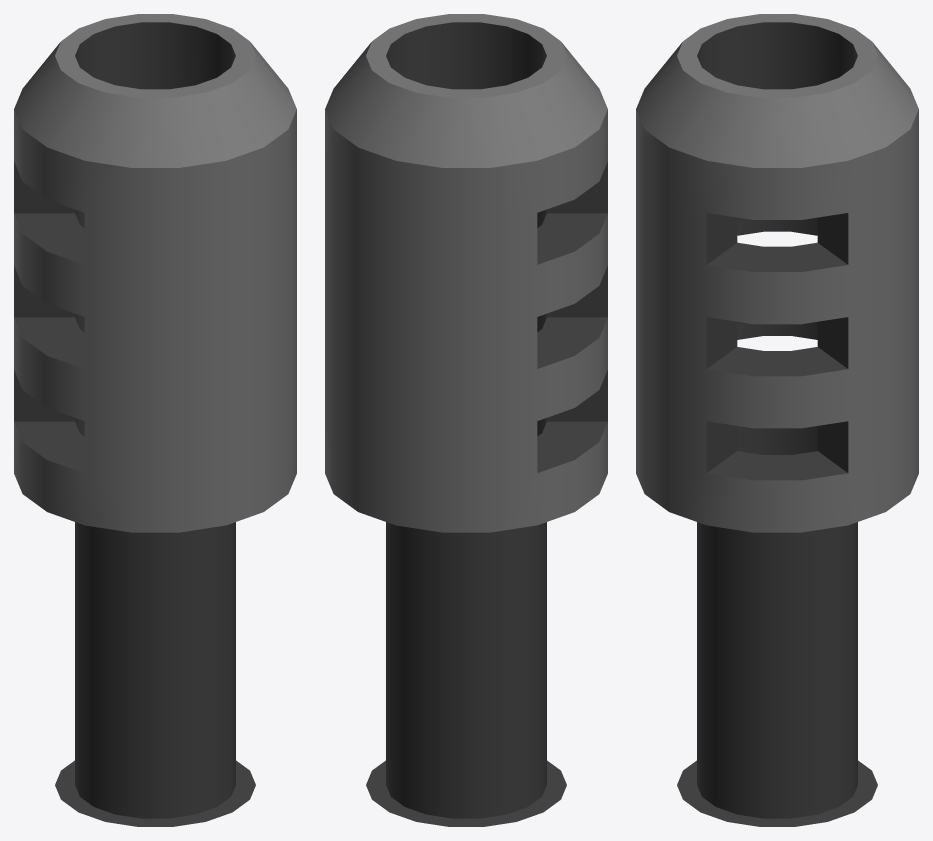
Rendered from Wea_SuShe2_off.fbx.
3 views of the same model, side by side, from view 1: azimuth 30°, elevation 25°; view 2: azimuth 150°, elevation 25°; view 3: azimuth 270°, elevation 25° (orthographic).
Parts seen in each view (by area): view 1: Box001; view 2: Box001; view 3: Box001.
Part boxes in pixels (x1,y1,x2,y2): Box001: (14, 14, 296, 826); Box001: (325, 14, 607, 826); Box001: (636, 14, 918, 826).
Size of the model in its own units: 0.6924 by 2 by 0.7031.
